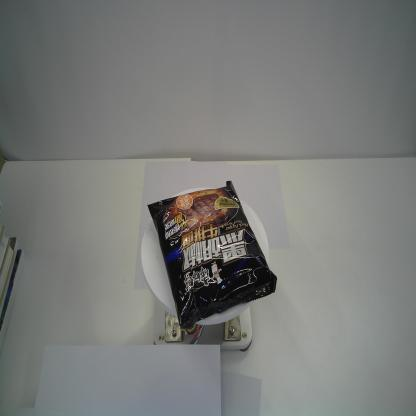Instant Noodles: (146, 179, 278, 330)
